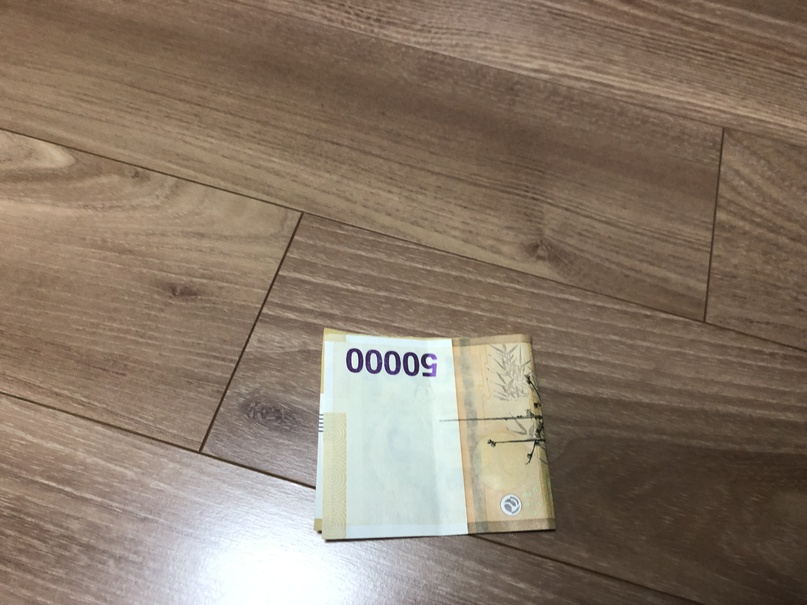50000won: (314, 326, 556, 542)
